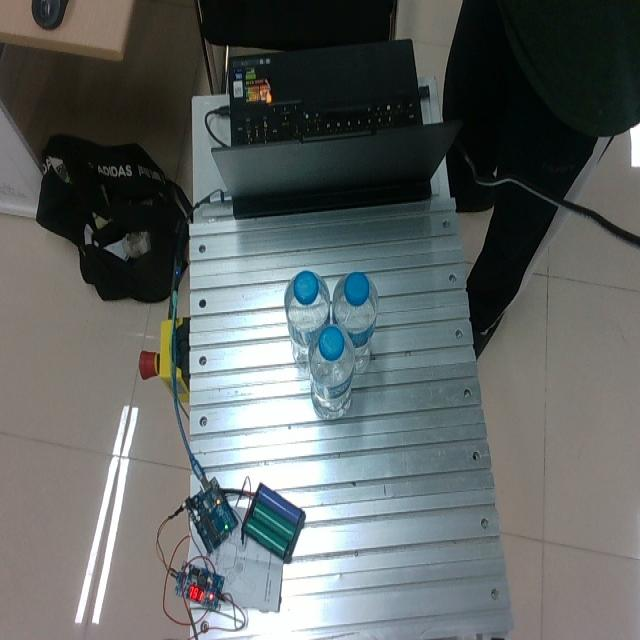lavie: (331, 271, 379, 373), (307, 321, 356, 419), (285, 270, 331, 370)
